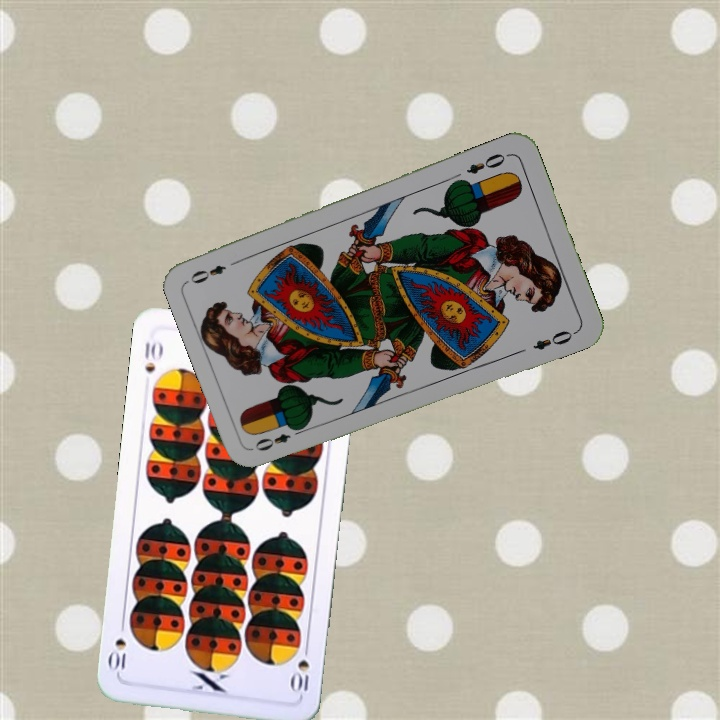EO: (250, 422, 307, 454), (462, 149, 512, 177)
S10: (288, 639, 312, 695), (140, 337, 165, 375)
